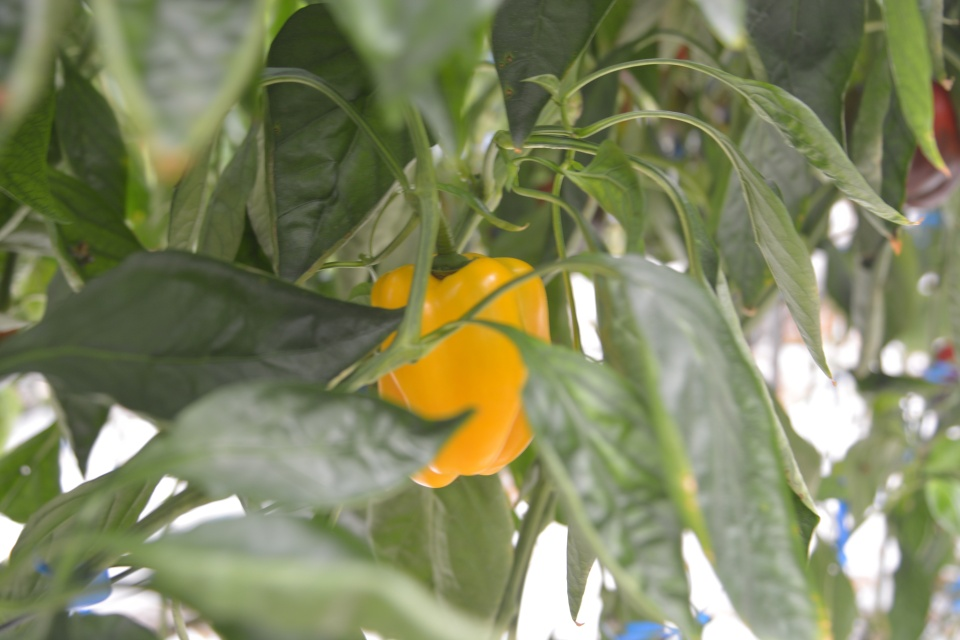fruit: (367, 250, 555, 489), (846, 79, 960, 210)
pedicle: (431, 253, 472, 278)
